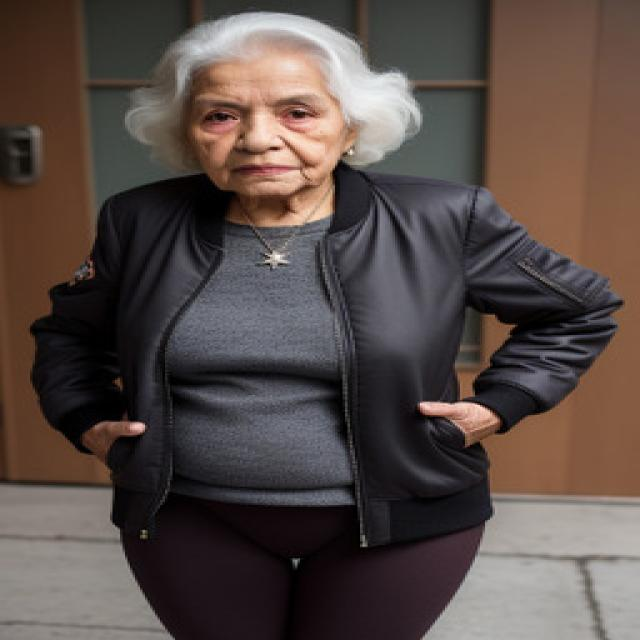Ai human 2: (25, 9, 620, 640)
